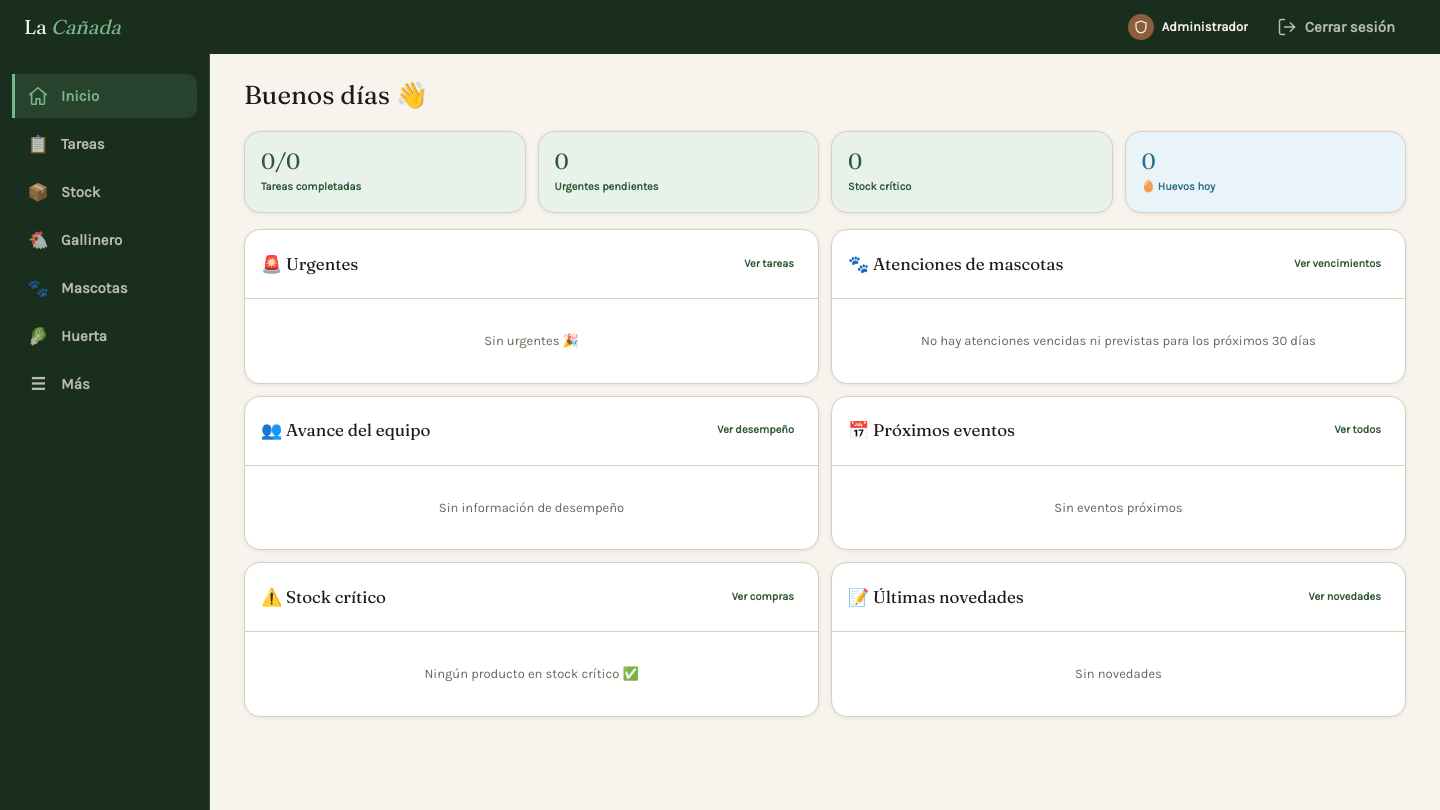
Test: navegación SPA — la sesión se restaura una sola vez por documento › volver a una pantalla visitada muestra sus datos al instante, sin requests nuevos
Check: the heading "Buenos días 👋" is shown, box [244,80,428,111]
What coordinates should you click on to do the following:
click the link "📋 Tareas"
I would click on:
 (66, 144)
Its box is [27,134,105,154].
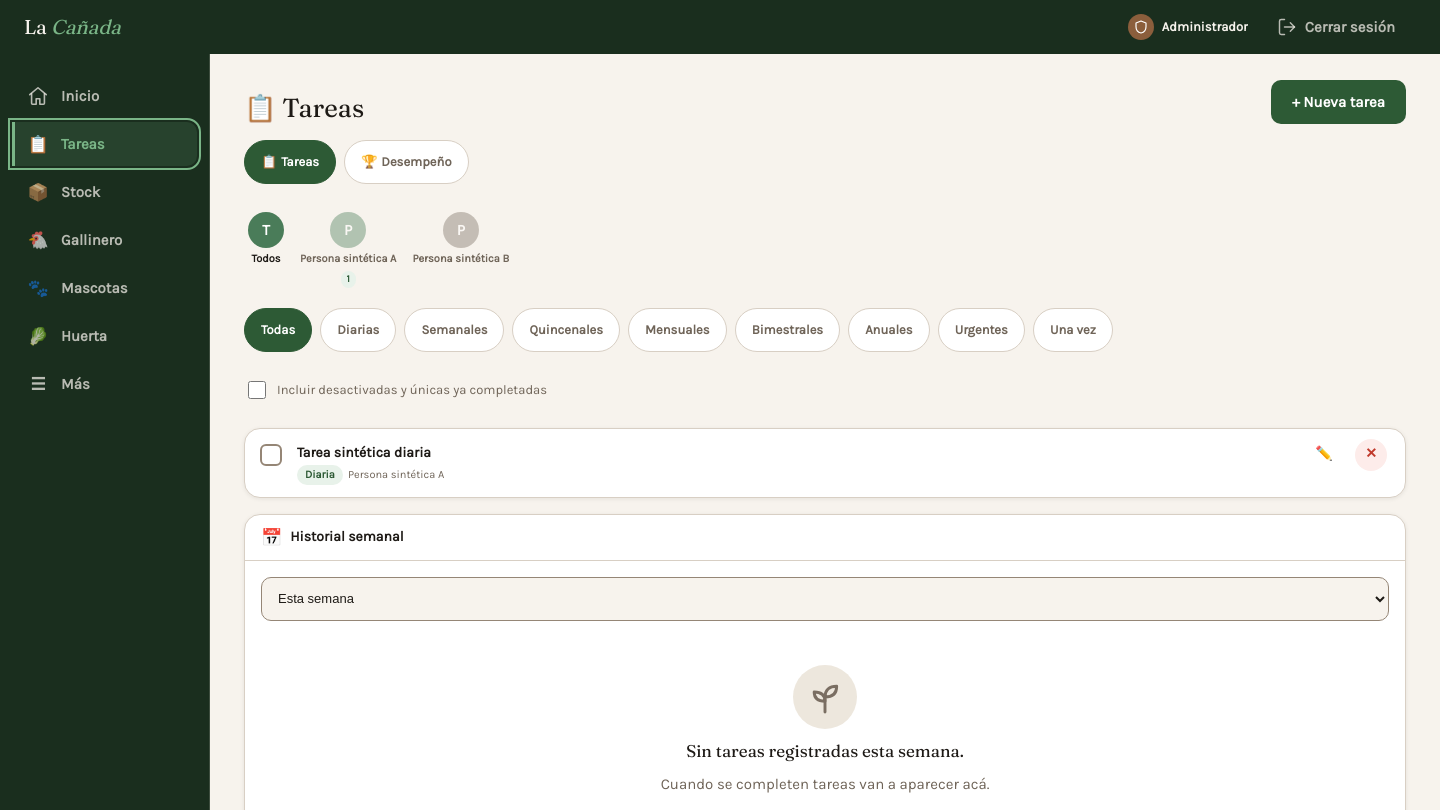
Check: the list named "Tareas del período" is shown, box [245,428,1405,497]
What coordinates should you click on to do the following:
click the link "📦 Stock"
I would click on:
 (64, 192)
Its box is [27,182,100,202].
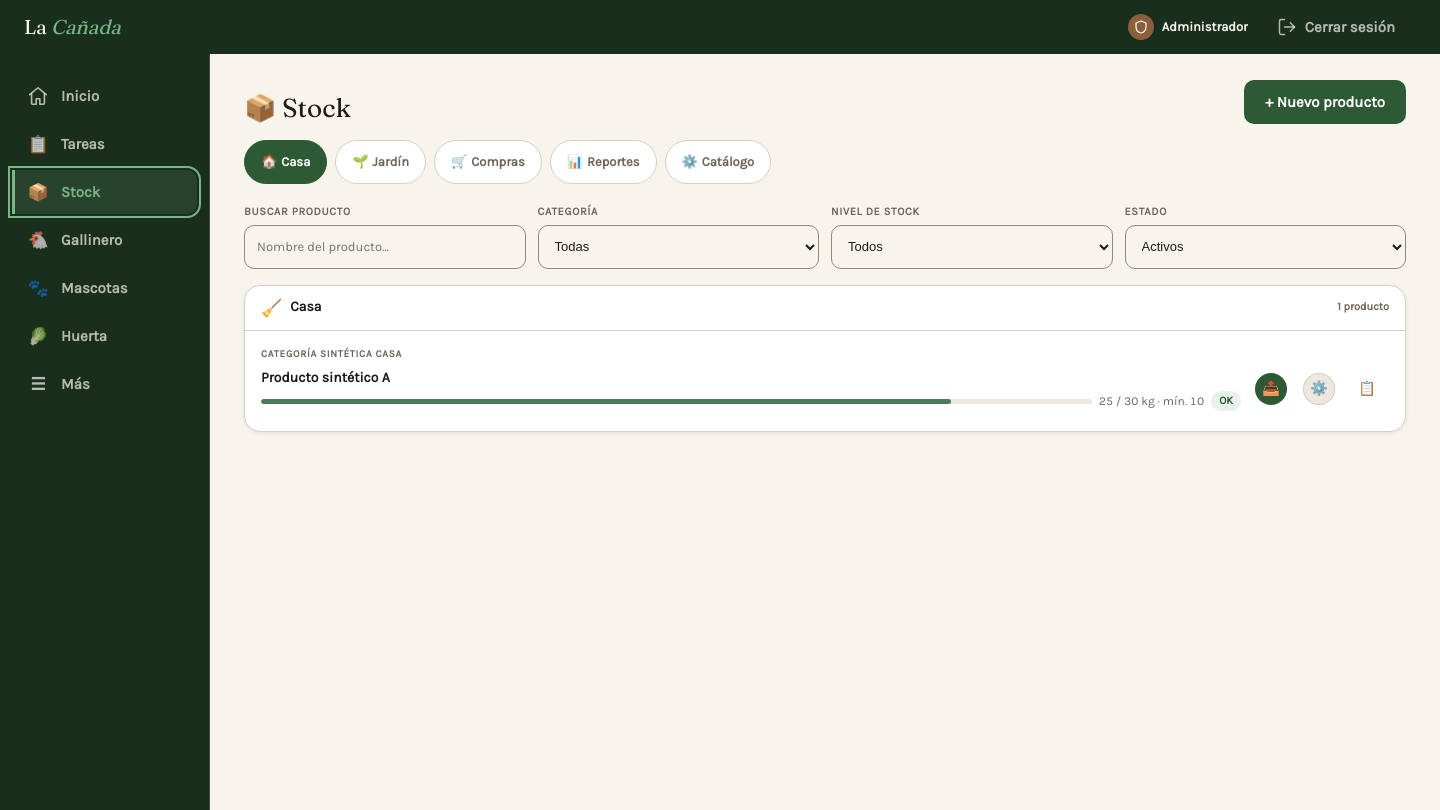
Check: the text "Producto sintético A" is shown, box [261,369,390,386]
What coordinates should you click on to do the following:
click the link "📋 Tareas"
I would click on:
 (66, 144)
Its box is [27,134,105,154].
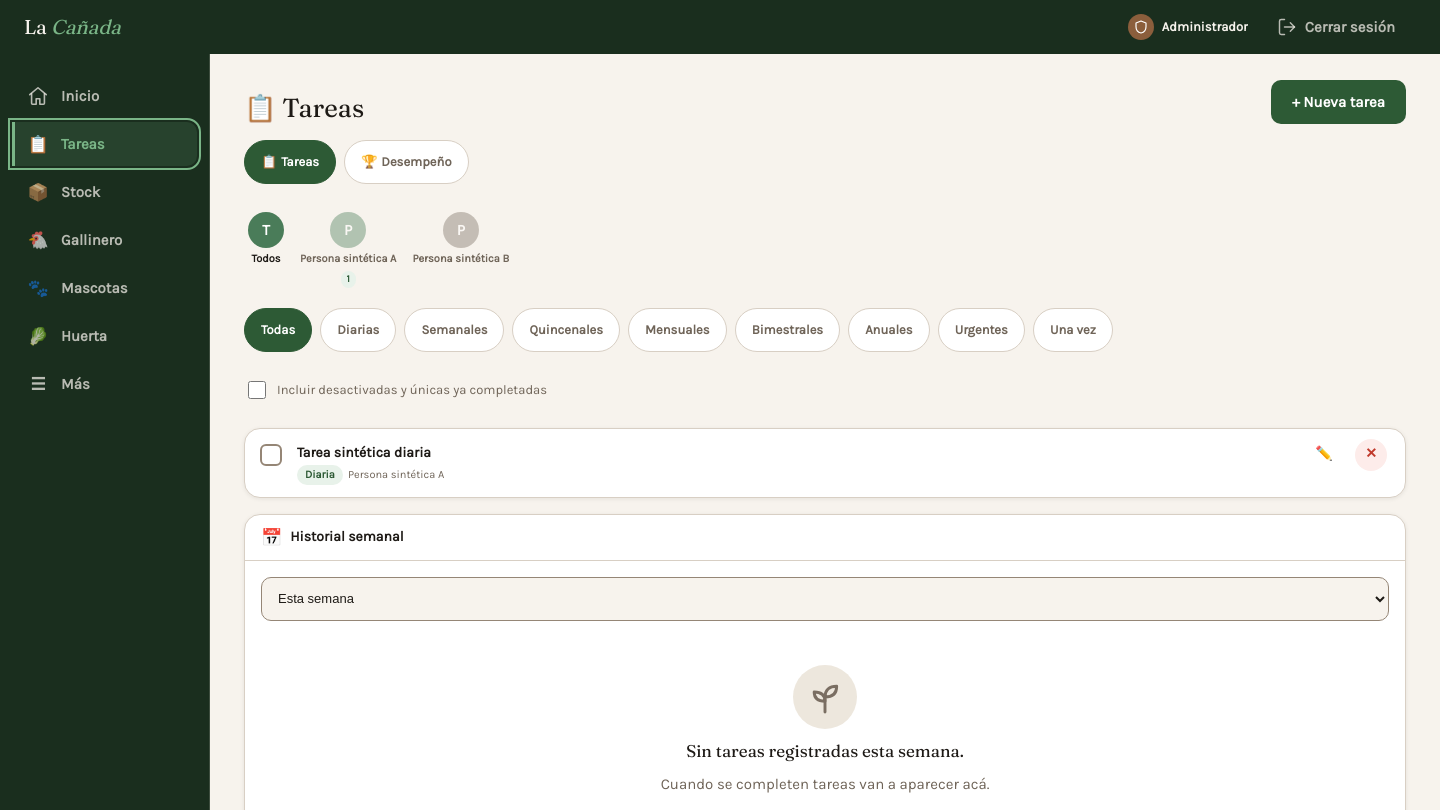
Check: the list named "Tareas del período" is shown, box [245,428,1405,497]
What coordinates should you click on to do the following:
click the link "📦 Stock"
I would click on:
 (64, 192)
Its box is [27,182,100,202].
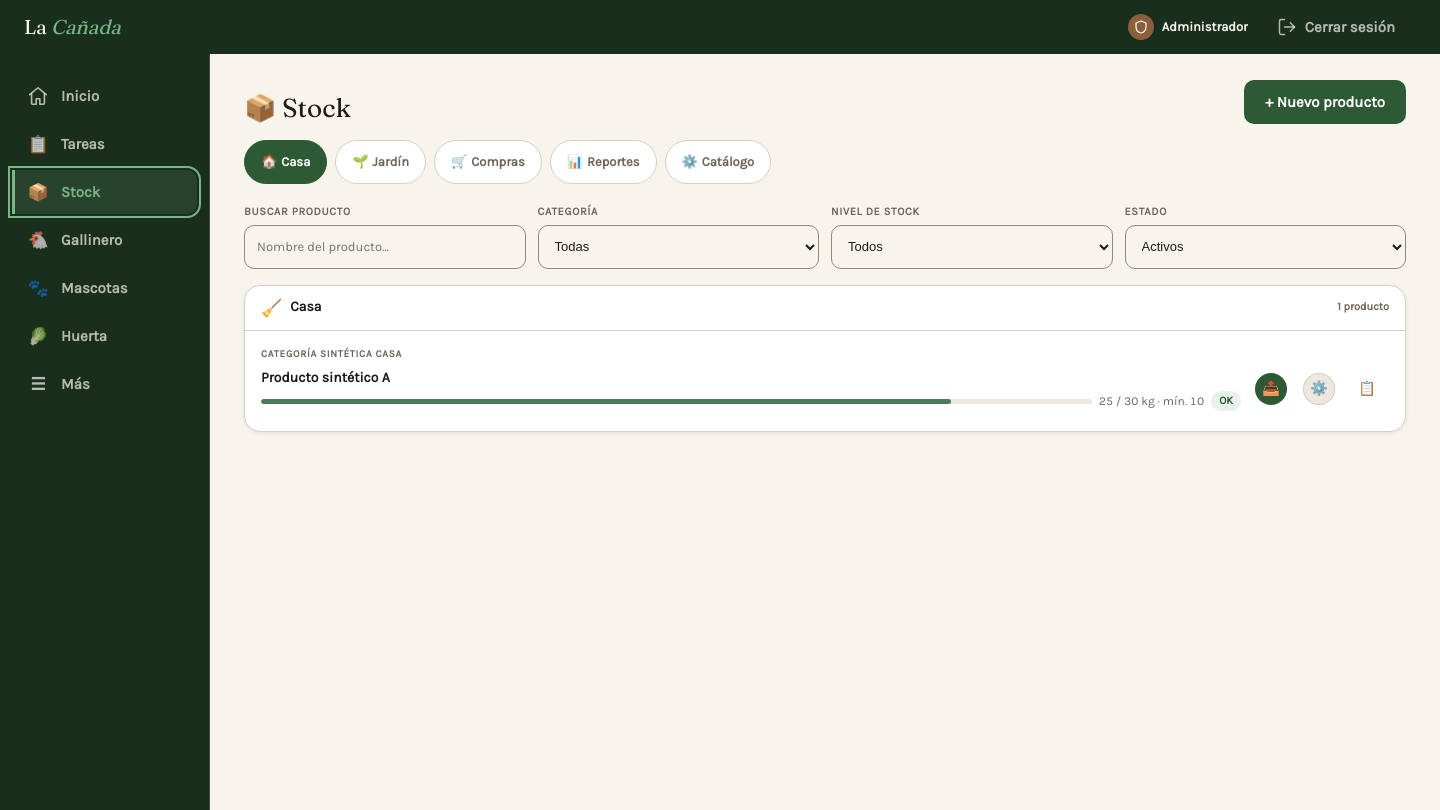
Check: the text "Producto sintético A" is shown, box [261,369,390,386]
